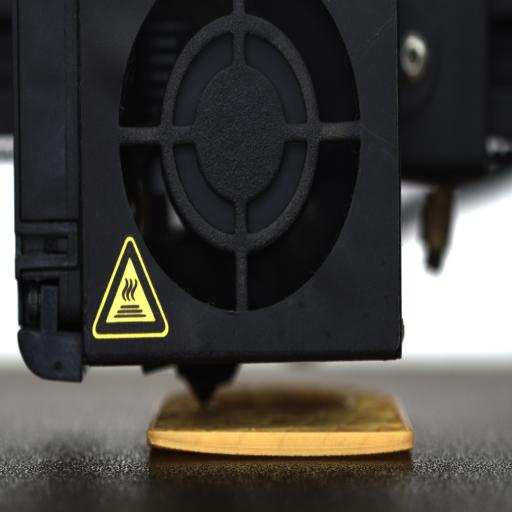warp: (147, 425, 241, 453), (318, 429, 413, 455)
